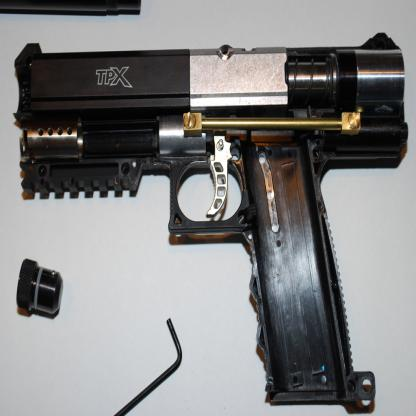Handgun: (13, 32, 408, 404)
